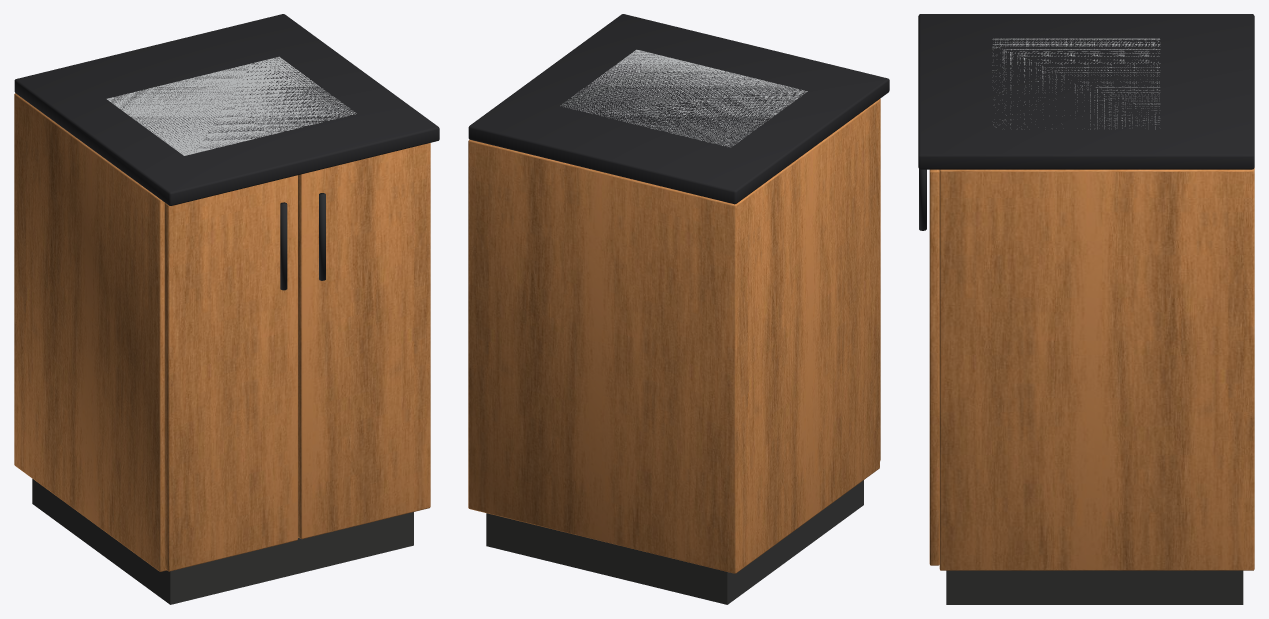
The model's file is kitchen.sink-cabinet.glb.
The picture shows the model from 3 angles, left to right: view 1: azimuth 30°, elevation 25°; view 2: azimuth 150°, elevation 25°; view 3: azimuth 270°, elevation 25°; orthographic projection. The views are drawn at different scales.
Parts seen in each view (by area): view 1: kitchen.sink-cabinet.001; view 2: kitchen.sink-cabinet.001; view 3: kitchen.sink-cabinet.001.
Part boxes in pixels (x1,y1,x2,y2): kitchen.sink-cabinet.001: (14,14,439,604); kitchen.sink-cabinet.001: (468,14,889,604); kitchen.sink-cabinet.001: (918,14,1254,604).
Bounding box in the file's own units: 0.6 × 0.9 × 0.6.
5 materials, 1 textured.
